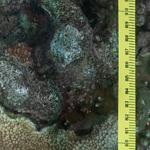dead: (6, 1, 144, 145)
